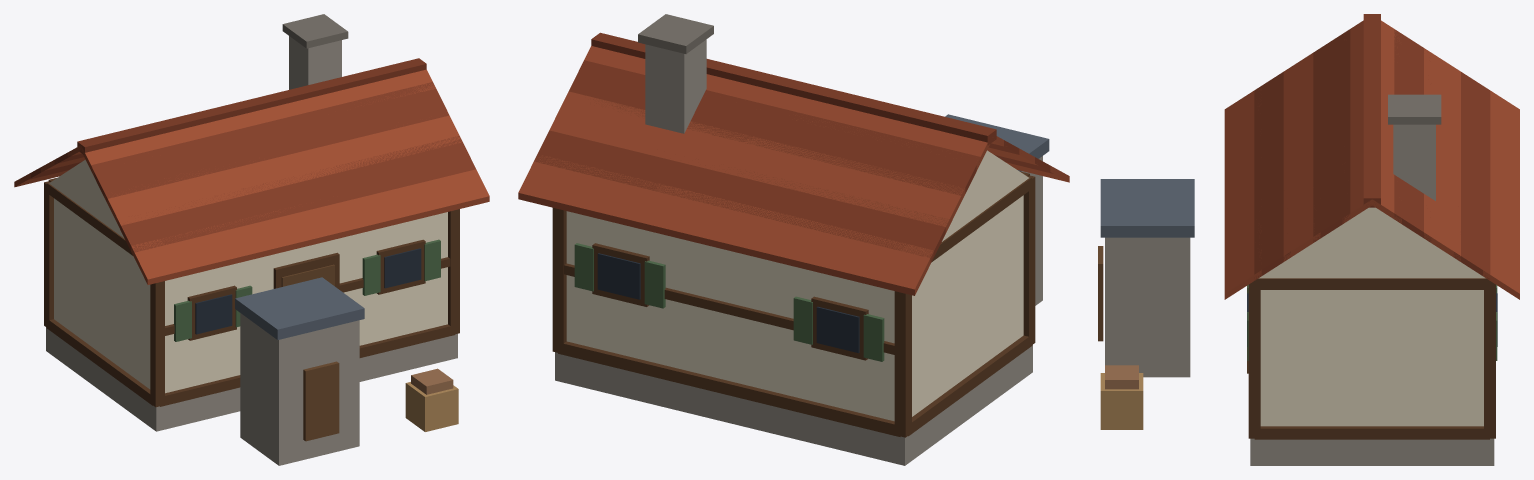
Rendered from smokehouse.glb.
The picture shows the model from 3 angles, left to right: view 1: azimuth 30°, elevation 25°; view 2: azimuth 150°, elevation 25°; view 3: azimuth 270°, elevation 25°; orthographic projection. The views are drawn at different scales.
Parts seen in each view (by area): view 1: smokehouse; view 2: smokehouse; view 3: smokehouse.
Boxes of the visible parts, x1,y1,x2,y2 form: smokehouse: [14, 14, 489, 465]; smokehouse: [518, 14, 1069, 465]; smokehouse: [1098, 14, 1519, 465].
Bounding box in the file's own units: 5.1 × 4.17 × 4.93.
